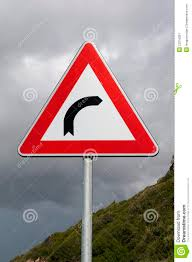Bend_to_right: (14, 39, 161, 159)
